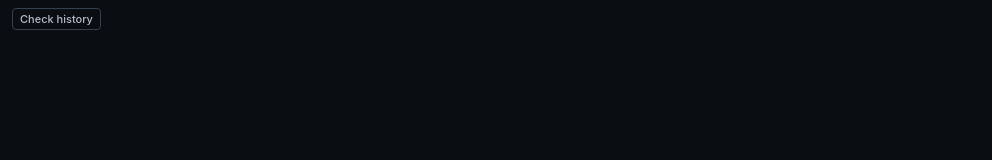
Test: HistoryPrefetch › shows what is missing, the requests and the time, and refuses without a broker
Step 1. Click the button "Check history" → {"x": 56, "y": 19}, box [12,8,101,30]
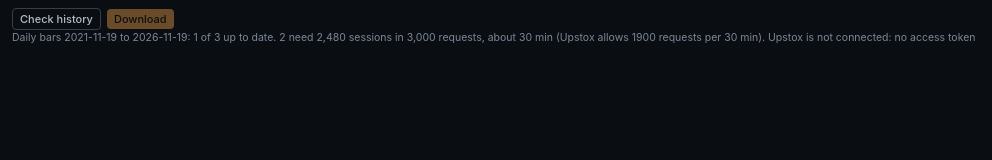
Check: the message named "History plan" shows "1 of 3 up to date", box [12,31,976,44]
Check: the message named "History plan" shows "2,480 sessions in 3,000 requests, about 30 min (Upstox allows 1900 requests per 30 min)", box [12,31,976,44]
Check: the message named "History plan" shows "Upstox is not connected: no access token", box [12,31,976,44]
